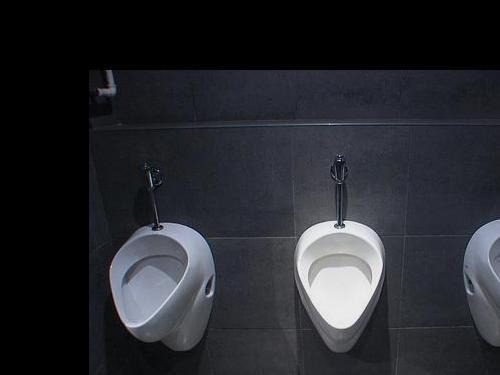Sanitario: (106, 225, 214, 351), (296, 218, 388, 360), (471, 211, 500, 349)
